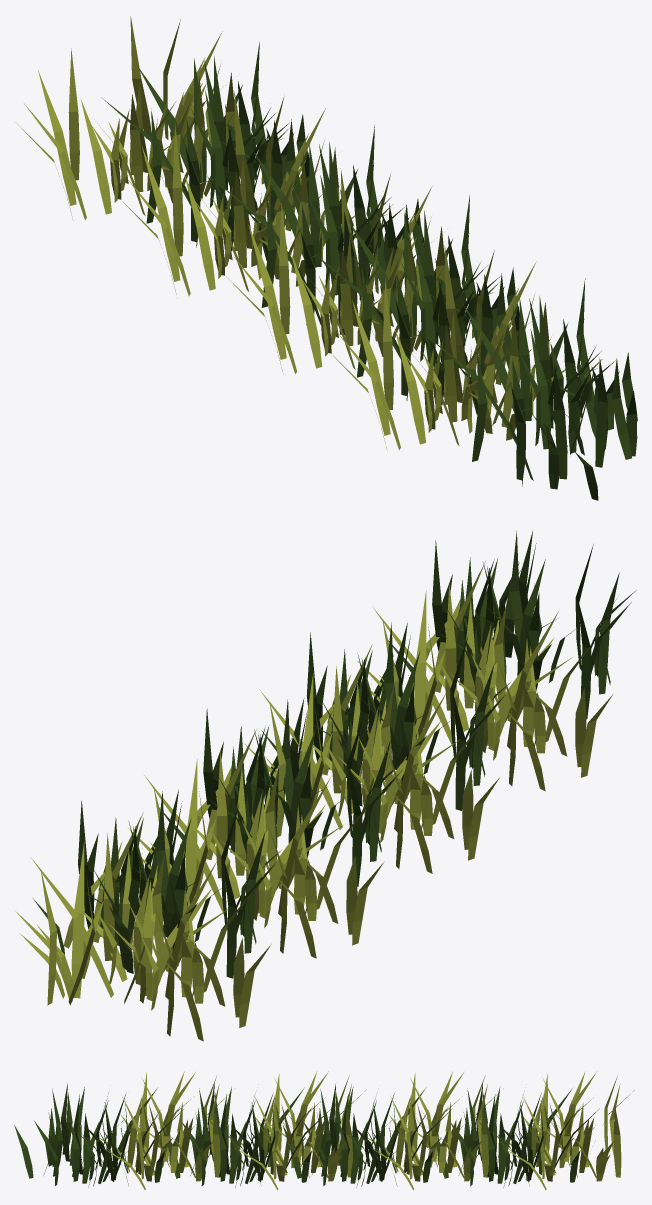
Rendered from Grass.fbx.
3 views of the same model, one above another, from view 1: azimuth 30°, elevation 25°; view 2: azimuth 150°, elevation 25°; view 3: azimuth 270°, elevation 25° (orthographic). The views are drawn at different scales.
Visible parts, largest first — view 1: Gras 3, Gras 4, Gras 4.002, Gras 4.003, Gras 4.001, Gras 3.001, Gras 3.003, Gras 3.002; view 2: Gras 4.003, Gras 4.002, Gras 4, Gras 4.001, Gras 3, Gras 3.003, Gras 3.002, Gras 3.001; view 3: Gras 3, Gras 4.003, Gras 4.002, Gras 4, Gras 3.002, Gras 3.001, Gras 3.003, Gras 4.001.
Boxes of the visible parts, x1=… form: Gras 3: x1=427, y1=278, x2=637, y2=500; Gras 4: x1=333, y1=245, x2=602, y2=450; Gras 4.002: x1=122, y1=91, x2=392, y2=295; Gras 4.003: x1=15, y1=16, x2=288, y2=220; Gras 4.001: x1=226, y1=168, x2=499, y2=373; Gras 3.001: x1=314, y1=195, x2=519, y2=414; Gras 3.003: x1=101, y1=42, x2=309, y2=260; Gras 3.002: x1=217, y1=125, x2=424, y2=335; Gras 4.003: x1=15, y1=812, x2=271, y2=1041; Gras 4.002: x1=128, y1=730, x2=384, y2=958; Gras 4: x1=357, y1=561, x2=612, y2=791; Gras 4.001: x1=244, y1=644, x2=499, y2=873; Gras 3: x1=388, y1=531, x2=636, y2=719; Gras 3.003: x1=33, y1=789, x2=281, y2=978; Gras 3.002: x1=159, y1=698, x2=407, y2=886; Gras 3.001: x1=261, y1=622, x2=510, y2=810; Gras 3: x1=14, y1=1084, x2=183, y2=1187; Gras 4.003: x1=497, y1=1071, x2=634, y2=1189; Gras 4.002: x1=367, y1=1071, x2=503, y2=1189; Gras 4: x1=99, y1=1071, x2=235, y2=1189; Gras 3.002: x1=282, y1=1084, x2=451, y2=1187; Gras 3.001: x1=161, y1=1083, x2=331, y2=1187; Gras 3.003: x1=429, y1=1083, x2=599, y2=1187; Gras 4.001: x1=229, y1=1071, x2=365, y2=1189.
Size of the model in its own units: 386 by 249 by 1396.
